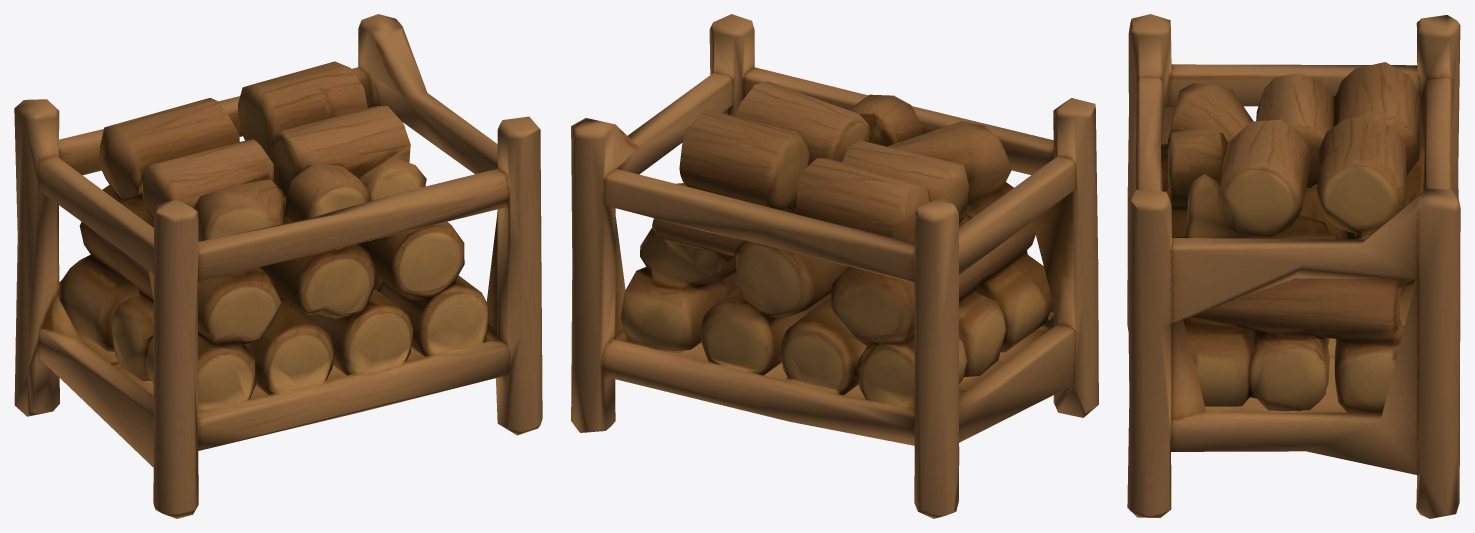
File: wooden log stack 3d model.glb
3 views of the same model, side by side, from view 1: azimuth 30°, elevation 25°; view 2: azimuth 150°, elevation 25°; view 3: azimuth 270°, elevation 25° (orthographic). The views are drawn at different scales.
Visible parts, largest first — view 1: tripo_node_168e9f0a-8317-4570-9438-c9718194e966; view 2: tripo_node_168e9f0a-8317-4570-9438-c9718194e966; view 3: tripo_node_168e9f0a-8317-4570-9438-c9718194e966.
Part boxes in pixels (x1,y1,x2,y2): tripo_node_168e9f0a-8317-4570-9438-c9718194e966: (14, 14, 542, 518); tripo_node_168e9f0a-8317-4570-9438-c9718194e966: (571, 14, 1098, 518); tripo_node_168e9f0a-8317-4570-9438-c9718194e966: (1127, 14, 1460, 518).
Bounding box in the file's own units: 0.9944 × 0.758 × 0.7218.
1 material, 1 textured.
